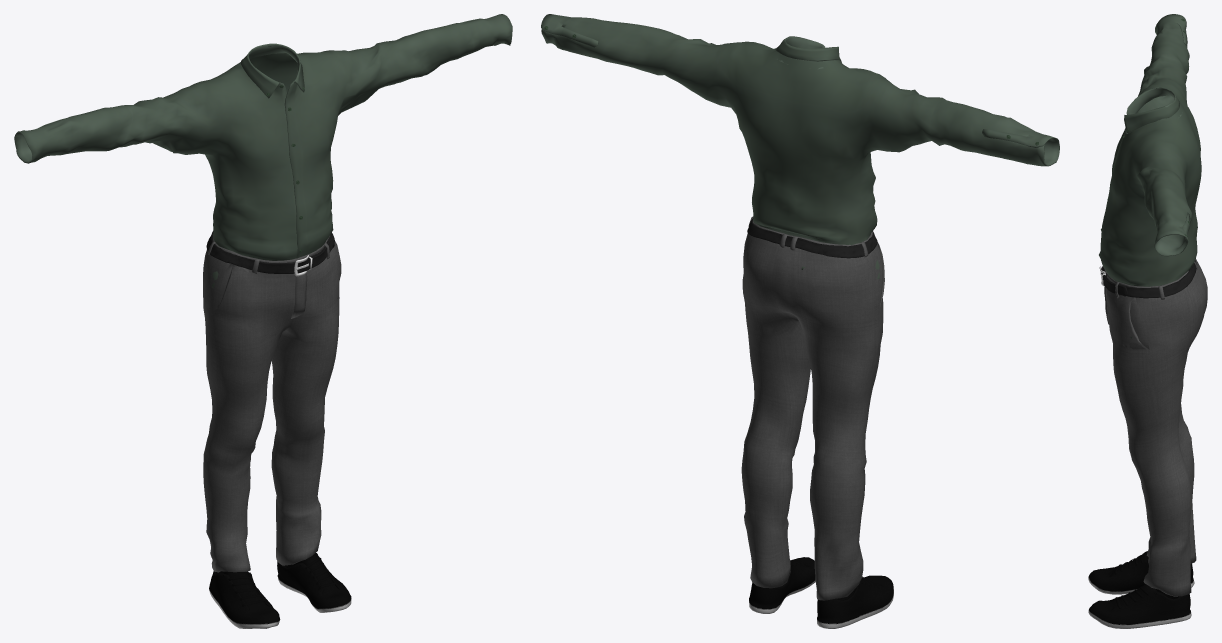
File: outfit_test_4.fbx
3 renders of one model, left to right at view 1: azimuth 30°, elevation 25°; view 2: azimuth 150°, elevation 25°; view 3: azimuth 270°, elevation 25°, orthographic. The views are drawn at different scales.
Parts seen in each view (by area): view 1: outfit_4; view 2: outfit_4; view 3: outfit_4.
Boxes of the visible parts, <box> form: outfit_4: <box>14,14,512,628</box>; outfit_4: <box>541,14,1059,628</box>; outfit_4: <box>1088,14,1207,628</box>.
Bounding box in the file's own units: 148 × 159 × 33.82.
